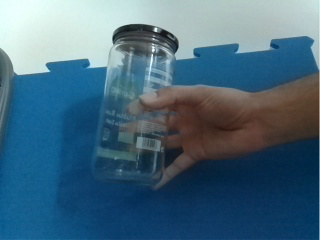pote cristal: (92, 22, 180, 190)
